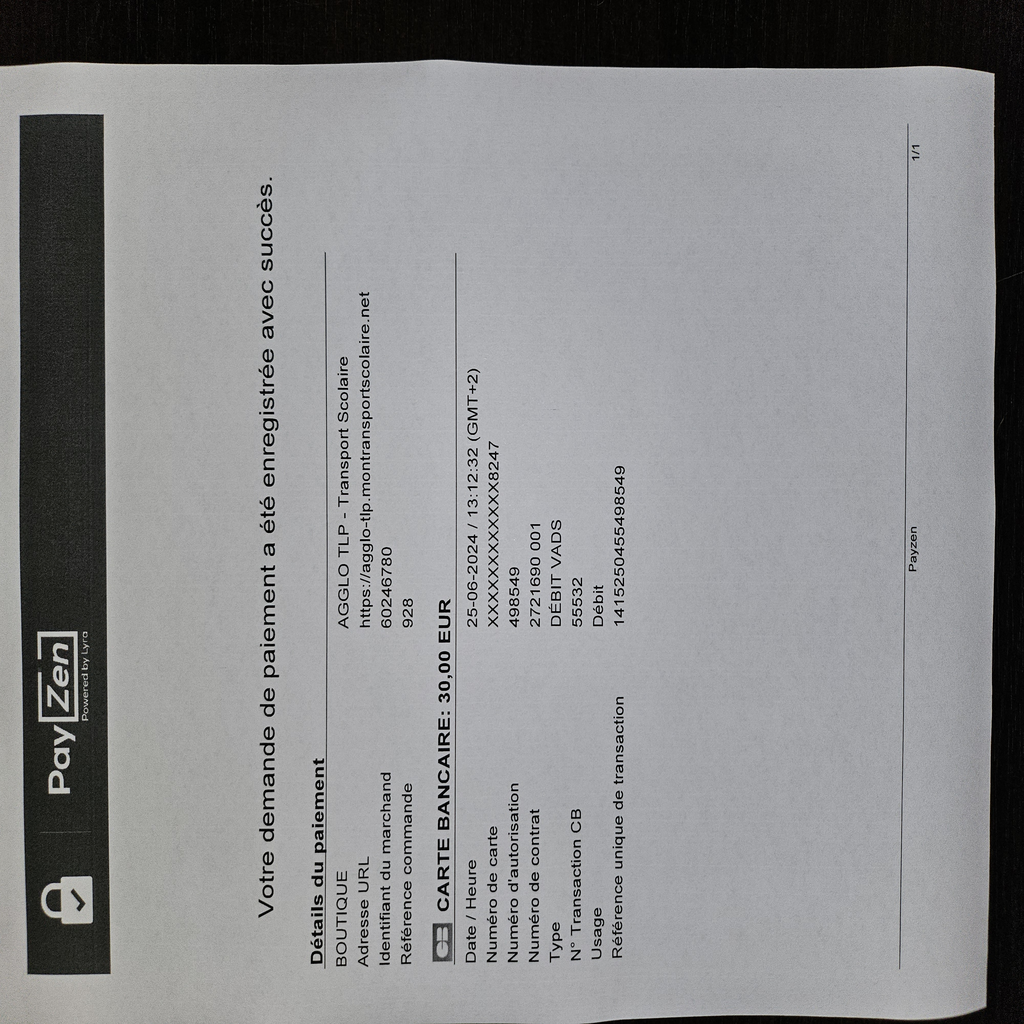recipt: (4, 61, 992, 1009)
